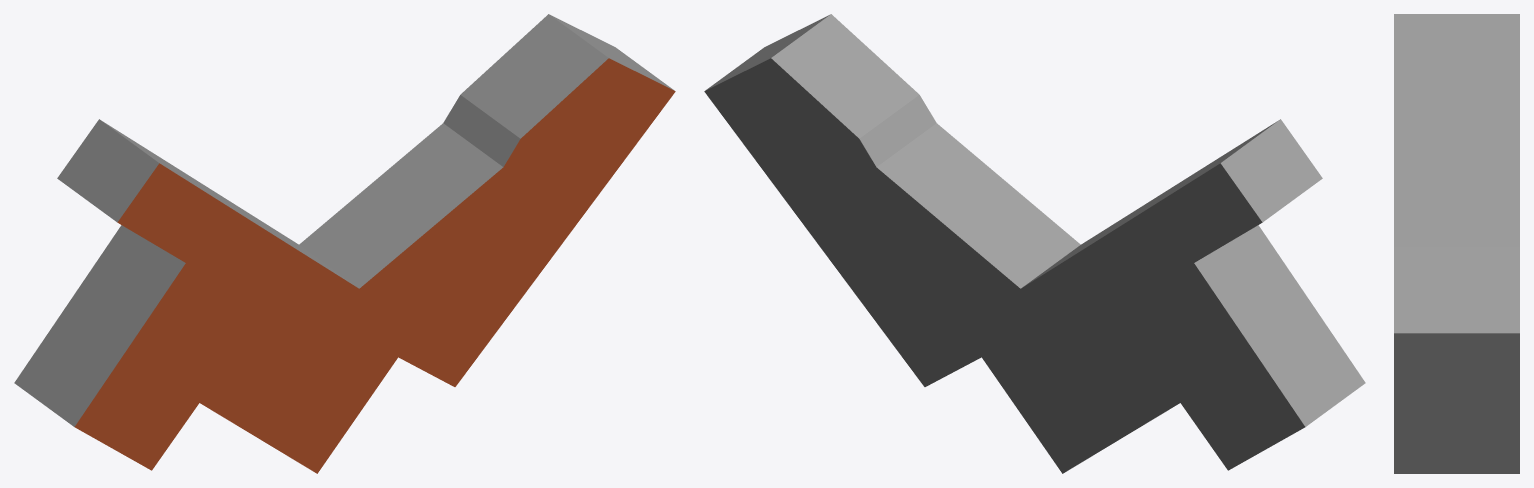
File: construction_1791_assumed_A_Casa_h6m.obj
3 views of the same model, side by side, from view 1: azimuth 30°, elevation 25°; view 2: azimuth 150°, elevation 25°; view 3: azimuth 270°, elevation 25° (orthographic). The views are drawn at different scales.
Visible parts, largest first — view 1: construction_1791_assumed_A_Casa; view 2: construction_1791_assumed_A_Casa; view 3: construction_1791_assumed_A_Casa.
Boxes of the visible parts, bbox=[...] form: construction_1791_assumed_A_Casa: bbox=[14, 14, 675, 473]; construction_1791_assumed_A_Casa: bbox=[704, 14, 1365, 473]; construction_1791_assumed_A_Casa: bbox=[1394, 14, 1519, 473].
Bounding box in the file's own units: 34.56 × 19.18 × 6.
